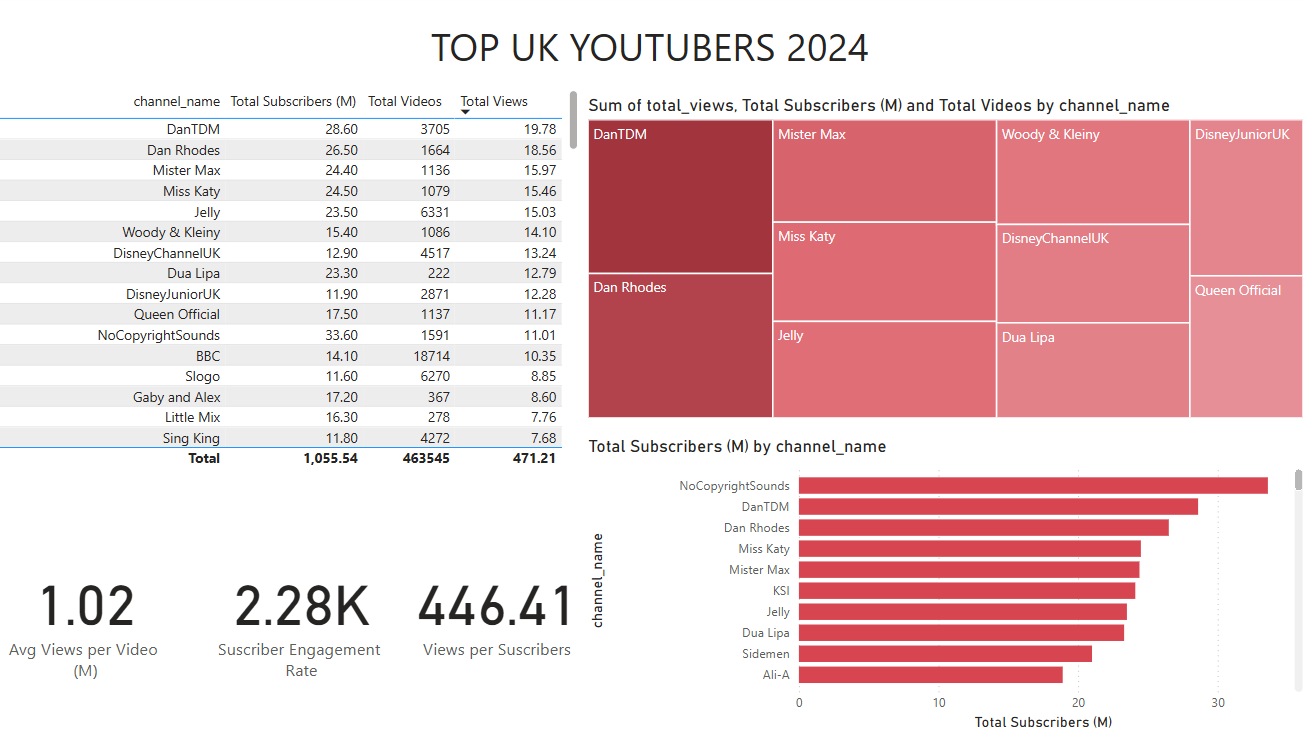

What the dashboard file says about the page in this screenshot:
{"tool":"powerbi","page":{"name":"Page 1","canvas":[1280,720],"ordinal":0},"visuals":[{"type":"textbox","box":[0,19.5,1280,60.3],"z":0},{"type":"tableEx","fields":{"Values":["view_uk_youtuber_2024.channel_name","view_uk_youtuber_2024.Total Subscribers (M)","view_uk_youtuber_2024.Total Videos","view_uk_youtuber_2024.Total Views"]},"box":[0,87.5,574.8,377.4],"z":1000},{"type":"treemap","fields":{"Group":["view_uk_youtuber_2024.channel_name"],"Values":["view_uk_youtuber_2024.total_views"]},"box":[574.8,97.3,705.2,319],"z":2000},{"type":"card","fields":{"Values":["view_uk_youtuber_2024.Avg Views per Video (M)"]},"box":[0,474.7,181.9,245.1],"z":3000},{"type":"card","fields":{"Values":["view_uk_youtuber_2024.Suscriber Engagement Rate"]},"box":[210.1,474.7,181.9,245.1],"z":4000},{"type":"card","fields":{"Values":["view_uk_youtuber_2024.Views per Suscribers"]},"box":[407.5,474.7,167.3,245.1],"z":5000},{"type":"clusteredBarChart","fields":{"Category":["view_uk_youtuber_2024.channel_name"],"Y":["view_uk_youtuber_2024.Total Subscribers (M)"]},"box":[574.8,428.9,705.2,290.8],"z":6000}]}

Visuals, with their boxes in screenshot pixels (x1, y1, x2, y2), scaled from the page's 1280x720 canvas onto the 1305x734 screenshot:
textbox: box=[0, 20, 1304, 81]
tableEx - view_uk_youtuber_2024.channel_name x view_uk_youtuber_2024.Total Subscribers (M): box=[0, 89, 586, 474]
treemap - view_uk_youtuber_2024.channel_name x view_uk_youtuber_2024.total_views: box=[586, 99, 1304, 424]
card - view_uk_youtuber_2024.Avg Views per Video (M): box=[0, 484, 185, 733]
card - view_uk_youtuber_2024.Suscriber Engagement Rate: box=[214, 484, 400, 733]
card - view_uk_youtuber_2024.Views per Suscribers: box=[415, 484, 586, 733]
clusteredBarChart - view_uk_youtuber_2024.channel_name x view_uk_youtuber_2024.Total Subscribers (M): box=[586, 437, 1304, 733]
